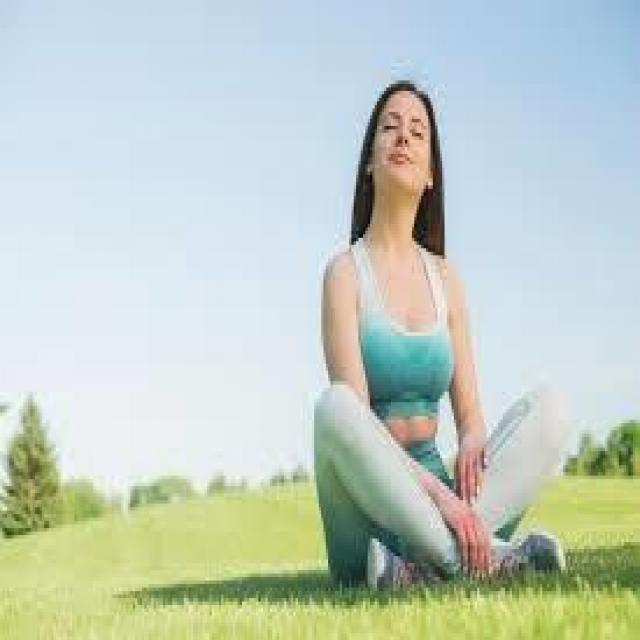person: (282, 21, 580, 591)
